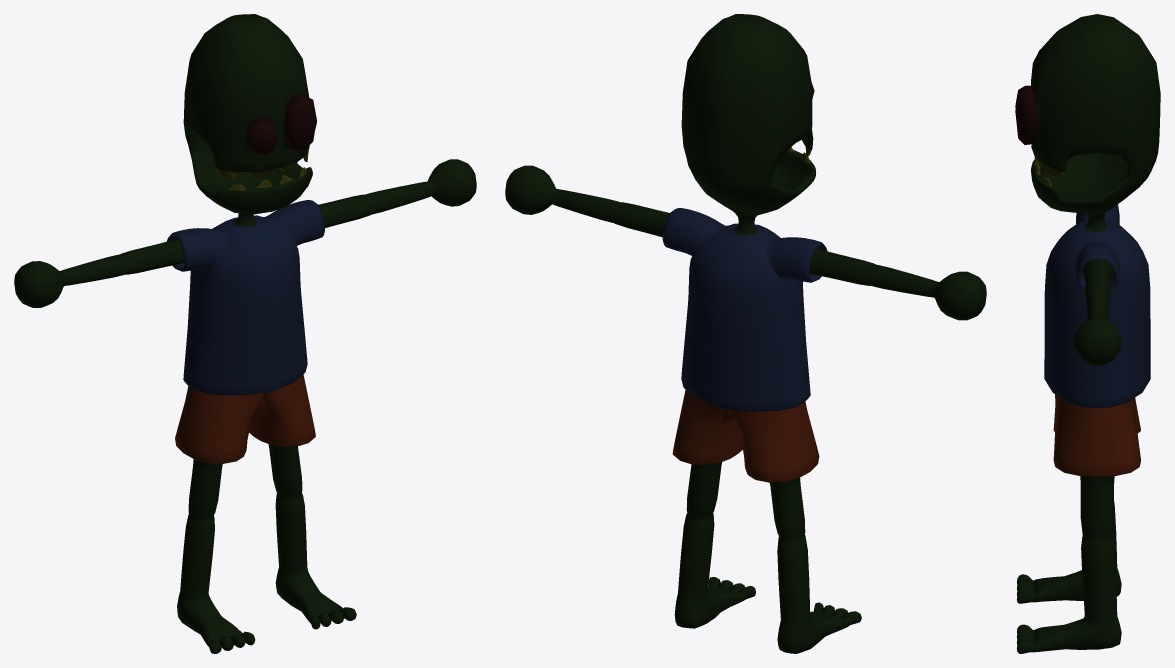
File: ZombieModele.FBX
3 renders of one model, left to right at view 1: azimuth 30°, elevation 25°; view 2: azimuth 150°, elevation 25°; view 3: azimuth 270°, elevation 25°, orthographic. The views are drawn at different scales.
Visible parts, largest first — view 1: Body; view 2: Body; view 3: Body.
Part boxes in pixels (x1=…): Body: x1=14, y1=14, x2=476, y2=653; Body: x1=505, y1=14, x2=986, y2=653; Body: x1=1015, y1=14, x2=1160, y2=653.
Size of the model in its own units: 33.9 by 9.25 by 42.04.
